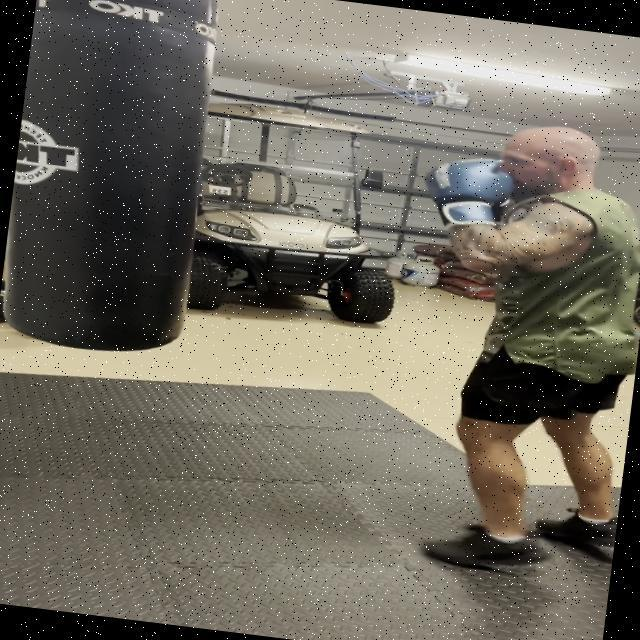bag: (0, 0, 234, 360)
no punch: (406, 98, 640, 296)
